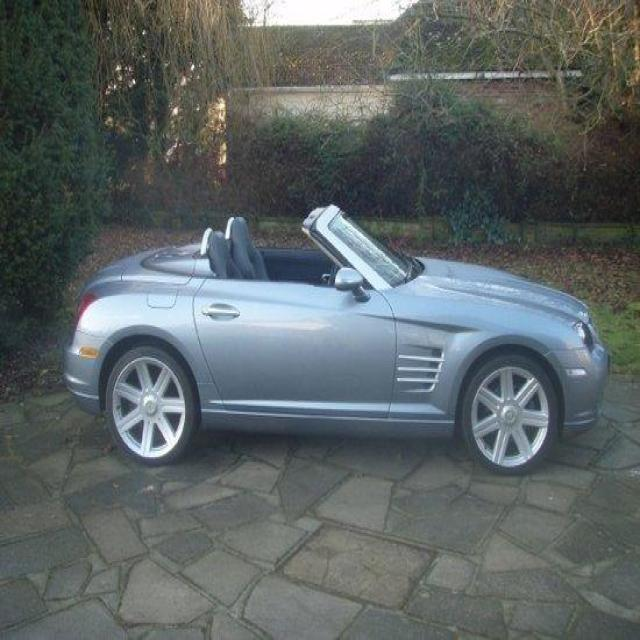Car: (56, 208, 622, 460)
